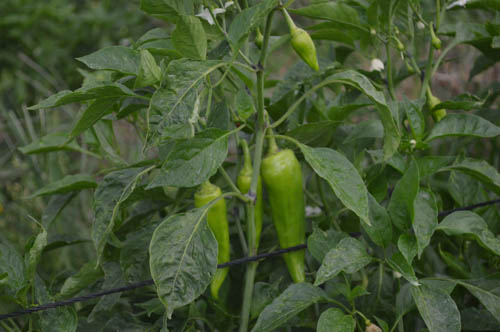ChiliPepper: (260, 142, 317, 283), (190, 186, 234, 302), (238, 164, 269, 248), (292, 28, 322, 67)
